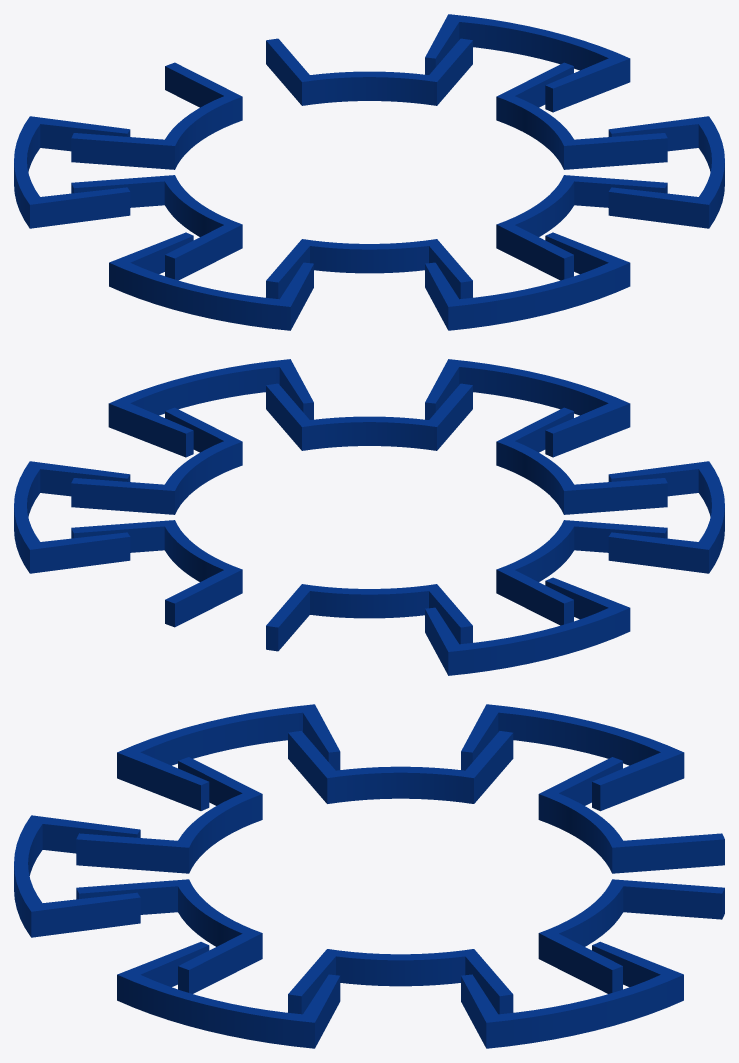
File: oggetto1.obj
The picture shows the model from 3 angles, top to bottom: view 1: azimuth 30°, elevation 25°; view 2: azimuth 150°, elevation 25°; view 3: azimuth 270°, elevation 25°; orthographic projection. The views are drawn at different scales.
Bounding box in the file's own units: 263 × 10 × 248.
